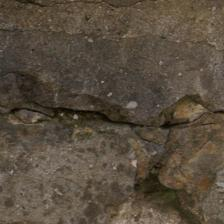Crack: (7, 84, 153, 131), (162, 92, 223, 130)
